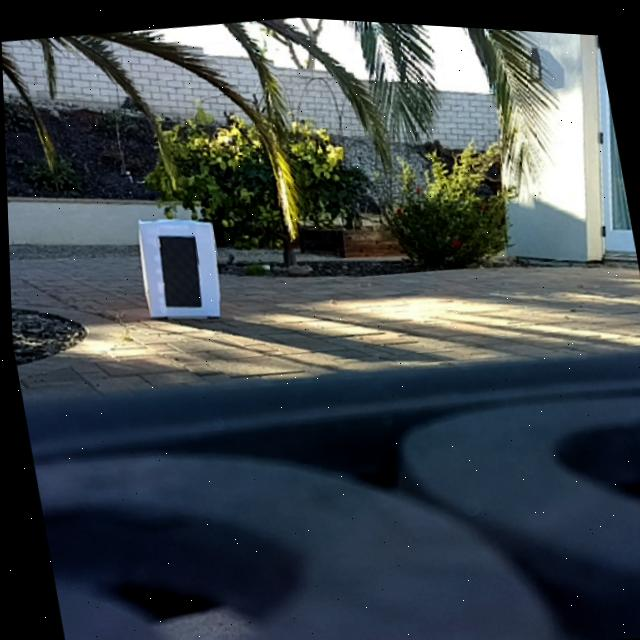led: (154, 230, 203, 309)
